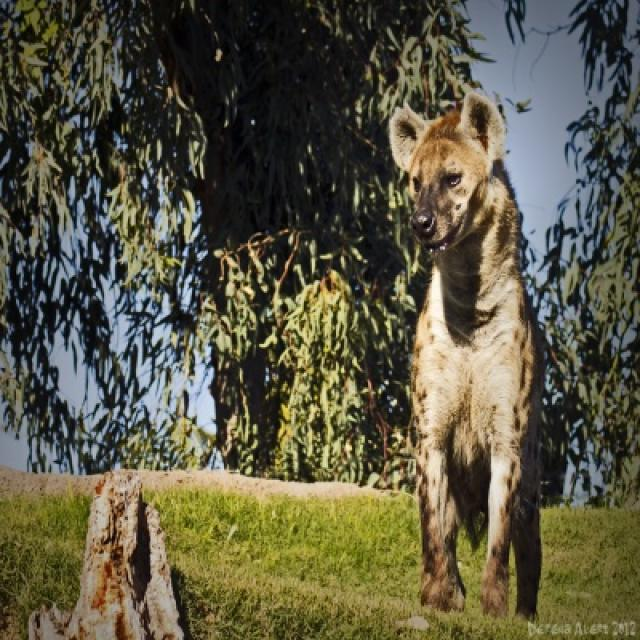hyena: (386, 90, 549, 622)
